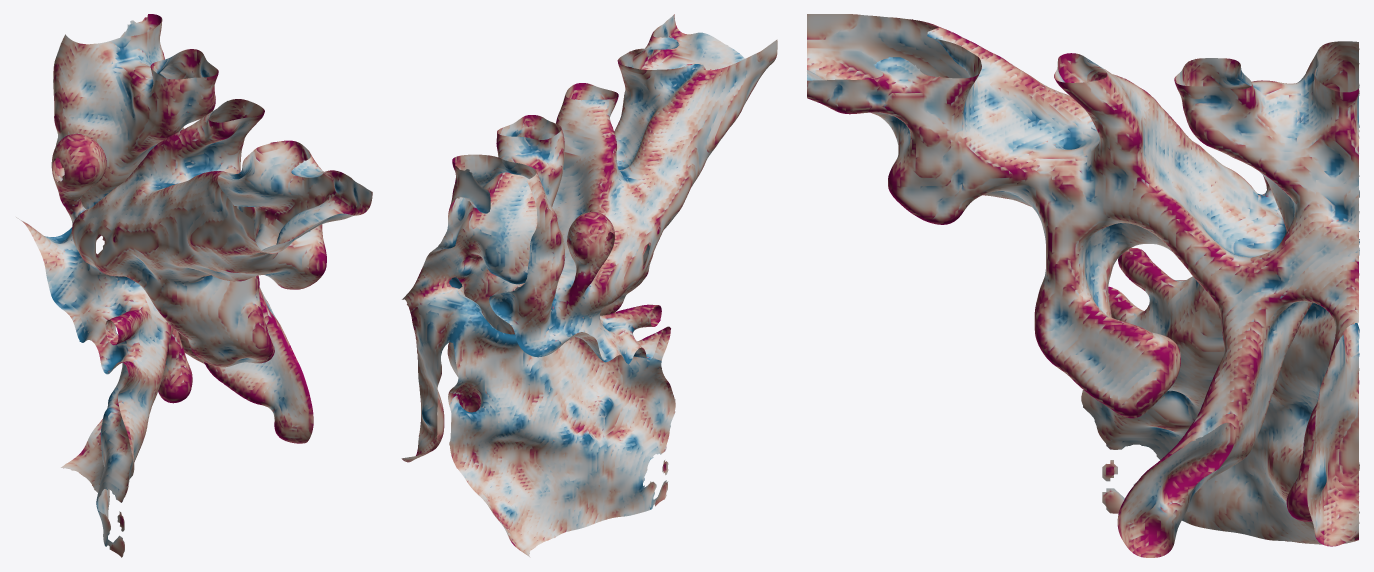
The model's file is crop1027_curvature.glb.
3 renders of one model, left to right at view 1: azimuth 30°, elevation 25°; view 2: azimuth 150°, elevation 25°; view 3: azimuth 270°, elevation 25°, orthographic. The views are drawn at different scales.
Visible parts, largest first — view 1: geometry_0; view 2: geometry_0; view 3: geometry_0.
Boxes of the visible parts, x1,y1,x2,y2 form: geometry_0: [16, 14, 372, 557]; geometry_0: [401, 14, 777, 557]; geometry_0: [807, 14, 1359, 557].
Size of the model in its own units: 1080 by 2279 by 2280.
